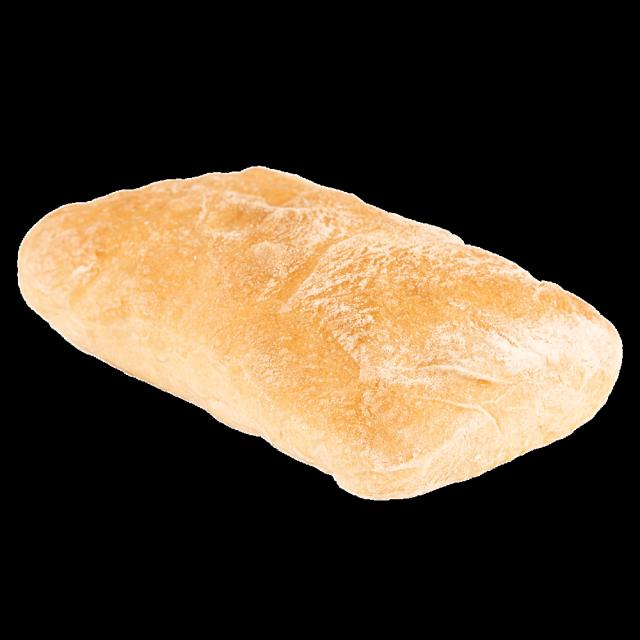Ciabatta: (19, 167, 621, 499)
